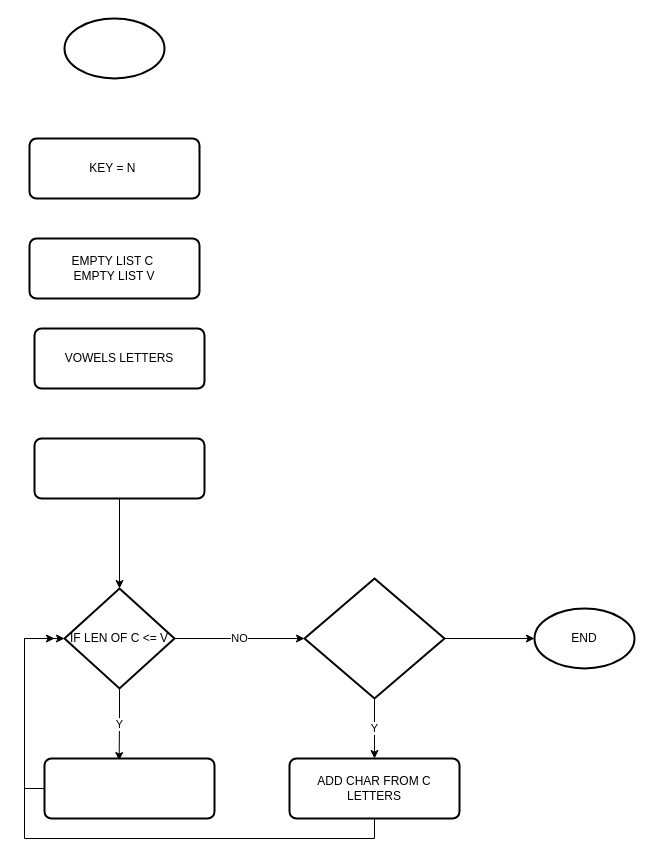
Image size: 653x864. Some labels were removed from this diagram. The shapes that lost their labels are listed below. From the top down, each one's centre as x and y in pixels, then its label:
At pixel 119 468: "CRATE ENGLISH LETTERS".
At pixel 374 638: "IF LEN OF V <= N AND NOT IN VOWELS".
At pixel 129 788: "ADD CHAR FROM VOWELS LETTERS".
